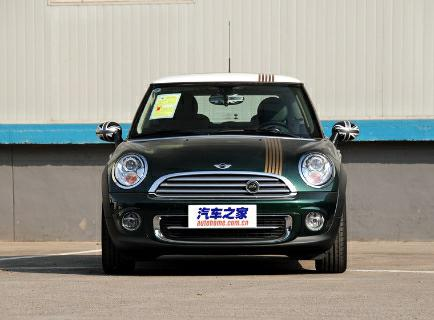MINI: (94, 82, 348, 280)
